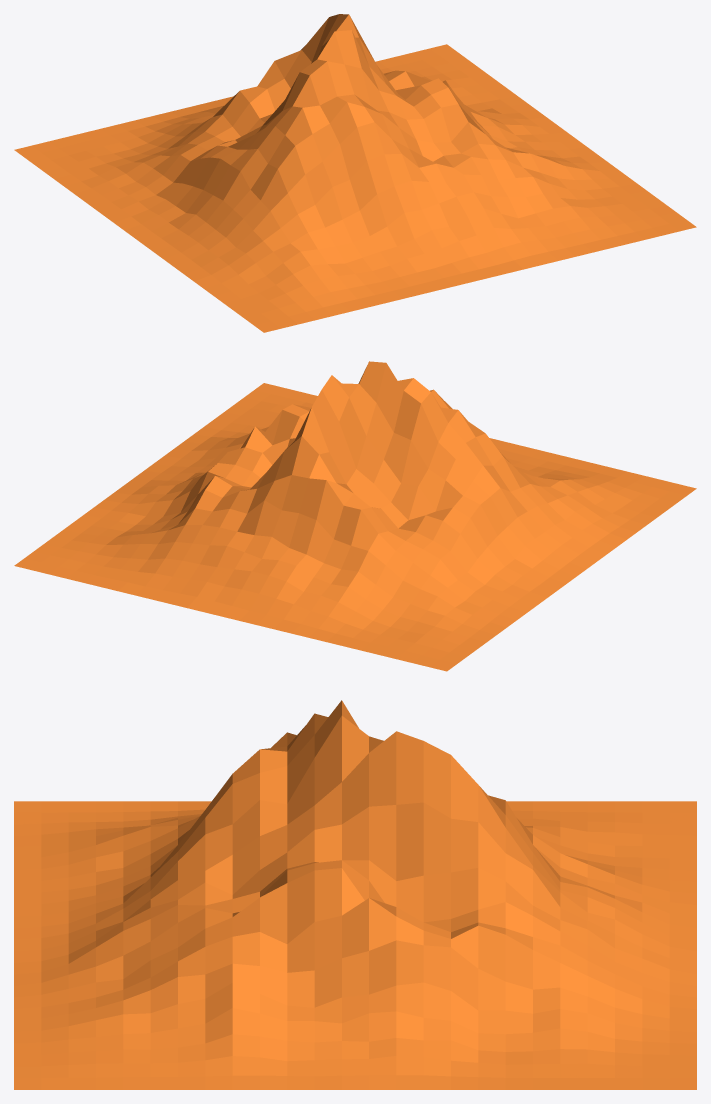
File: moutain.dae
3 views of the same model, one above another, from view 1: azimuth 30°, elevation 25°; view 2: azimuth 150°, elevation 25°; view 3: azimuth 270°, elevation 25° (orthographic). The views are drawn at different scales.
Parts seen in each view (by area): view 1: 地形; view 2: 地形; view 3: 地形.
Part boxes in pixels (left/top/right/bottom): 地形: left=14, top=14, right=696, bottom=332; 地形: left=14, top=361, right=696, bottom=671; 地形: left=14, top=700, right=696, bottom=1089.
Size of the model in its own units: 1000 by 369 by 1000.
